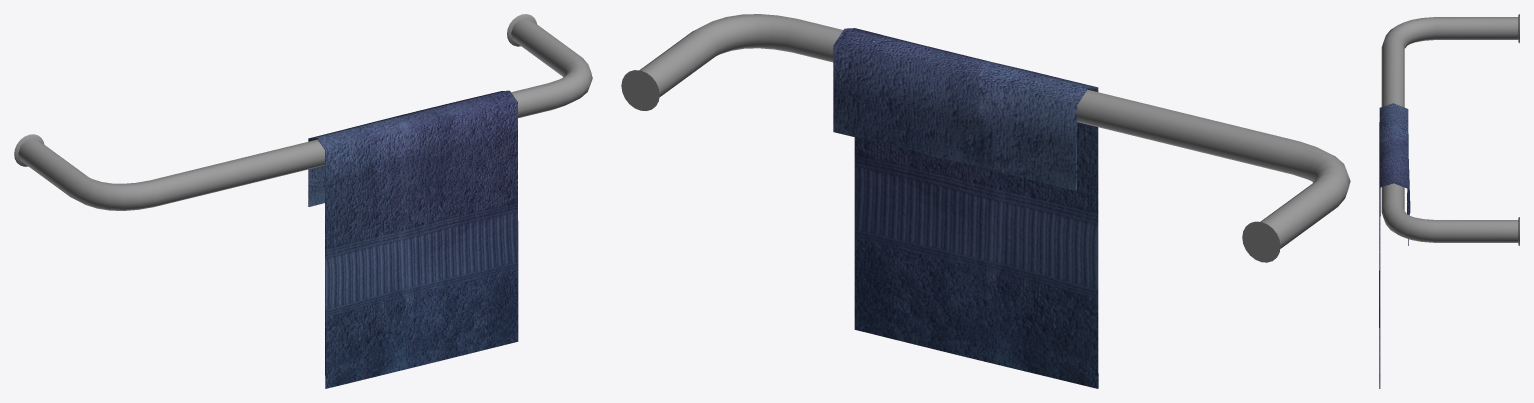
The model's file is BathStand02b.FBX.
The picture shows the model from 3 angles, left to right: view 1: azimuth 30°, elevation 25°; view 2: azimuth 150°, elevation 25°; view 3: azimuth 270°, elevation 25°; orthographic projection. The views are drawn at different scales.
Visible parts, largest first — view 1: Towel02, BathStand02b; view 2: Towel02, BathStand02b; view 3: BathStand02b, Towel02.
Boxes of the visible parts, x1=… form: Towel02: x1=308, y1=90, x2=518, y2=388; BathStand02b: x1=14, y1=14, x2=592, y2=210; Towel02: x1=833, y1=28, x2=1098, y2=388; BathStand02b: x1=621, y1=14, x2=1350, y2=262; BathStand02b: x1=1381, y1=14, x2=1519, y2=245; Towel02: x1=1379, y1=103, x2=1410, y2=388.
Bounding box in the file's own units: 48.89 × 21.91 × 13.51.
